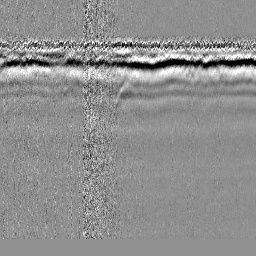cavity: (114, 80, 141, 106)
